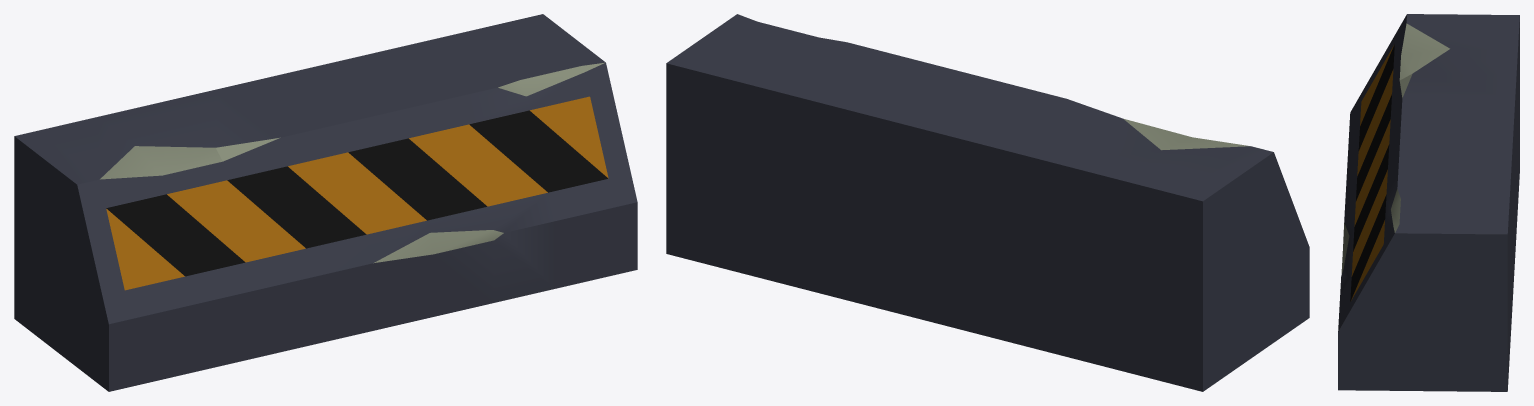
The model's file is Barrier_Single.obj.
The picture shows the model from 3 angles, left to right: view 1: azimuth 30°, elevation 25°; view 2: azimuth 150°, elevation 25°; view 3: azimuth 270°, elevation 25°; orthographic projection. The views are drawn at different scales.
Parts seen in each view (by area): view 1: Barrier_Single_Cube.046; view 2: Barrier_Single_Cube.046; view 3: Barrier_Single_Cube.046.
Boxes of the visible parts, bbox=[...] form: Barrier_Single_Cube.046: bbox=[14, 14, 637, 391]; Barrier_Single_Cube.046: bbox=[666, 14, 1309, 391]; Barrier_Single_Cube.046: bbox=[1338, 14, 1519, 391].
Bounding box in the file's own units: 1.89 × 0.6281 × 0.6569.
